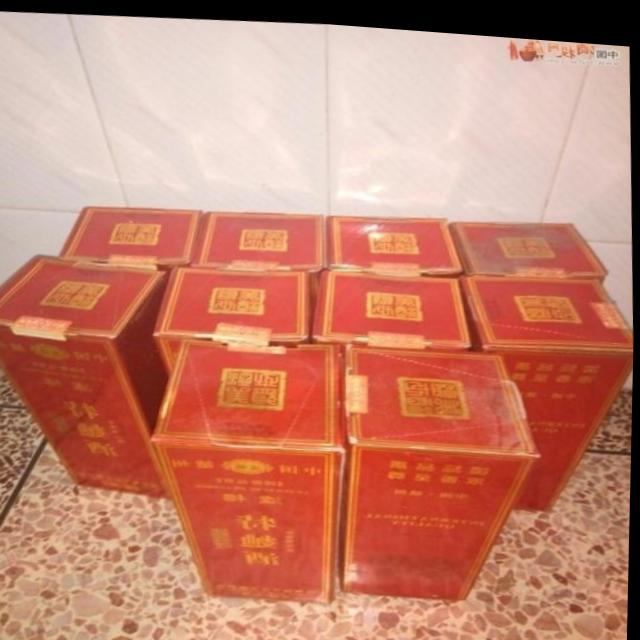box: (339, 338, 542, 592), (150, 338, 348, 595), (0, 252, 171, 496), (462, 269, 635, 503), (154, 262, 309, 369), (312, 264, 472, 341), (183, 207, 325, 270), (448, 215, 609, 269), (61, 204, 201, 265), (324, 210, 464, 268)
